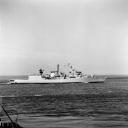Fragata: (9, 63, 110, 85)
